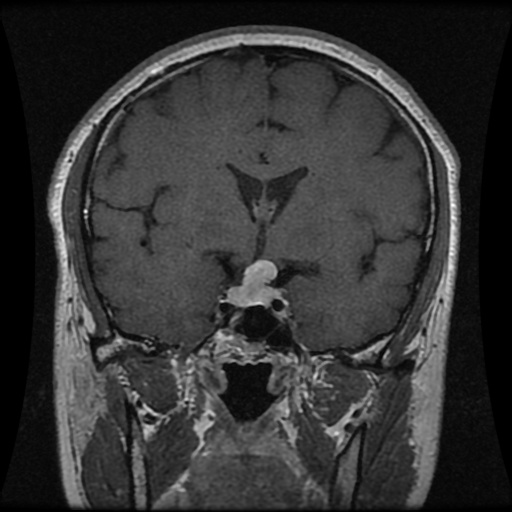pituitary: (228, 260, 281, 307)
